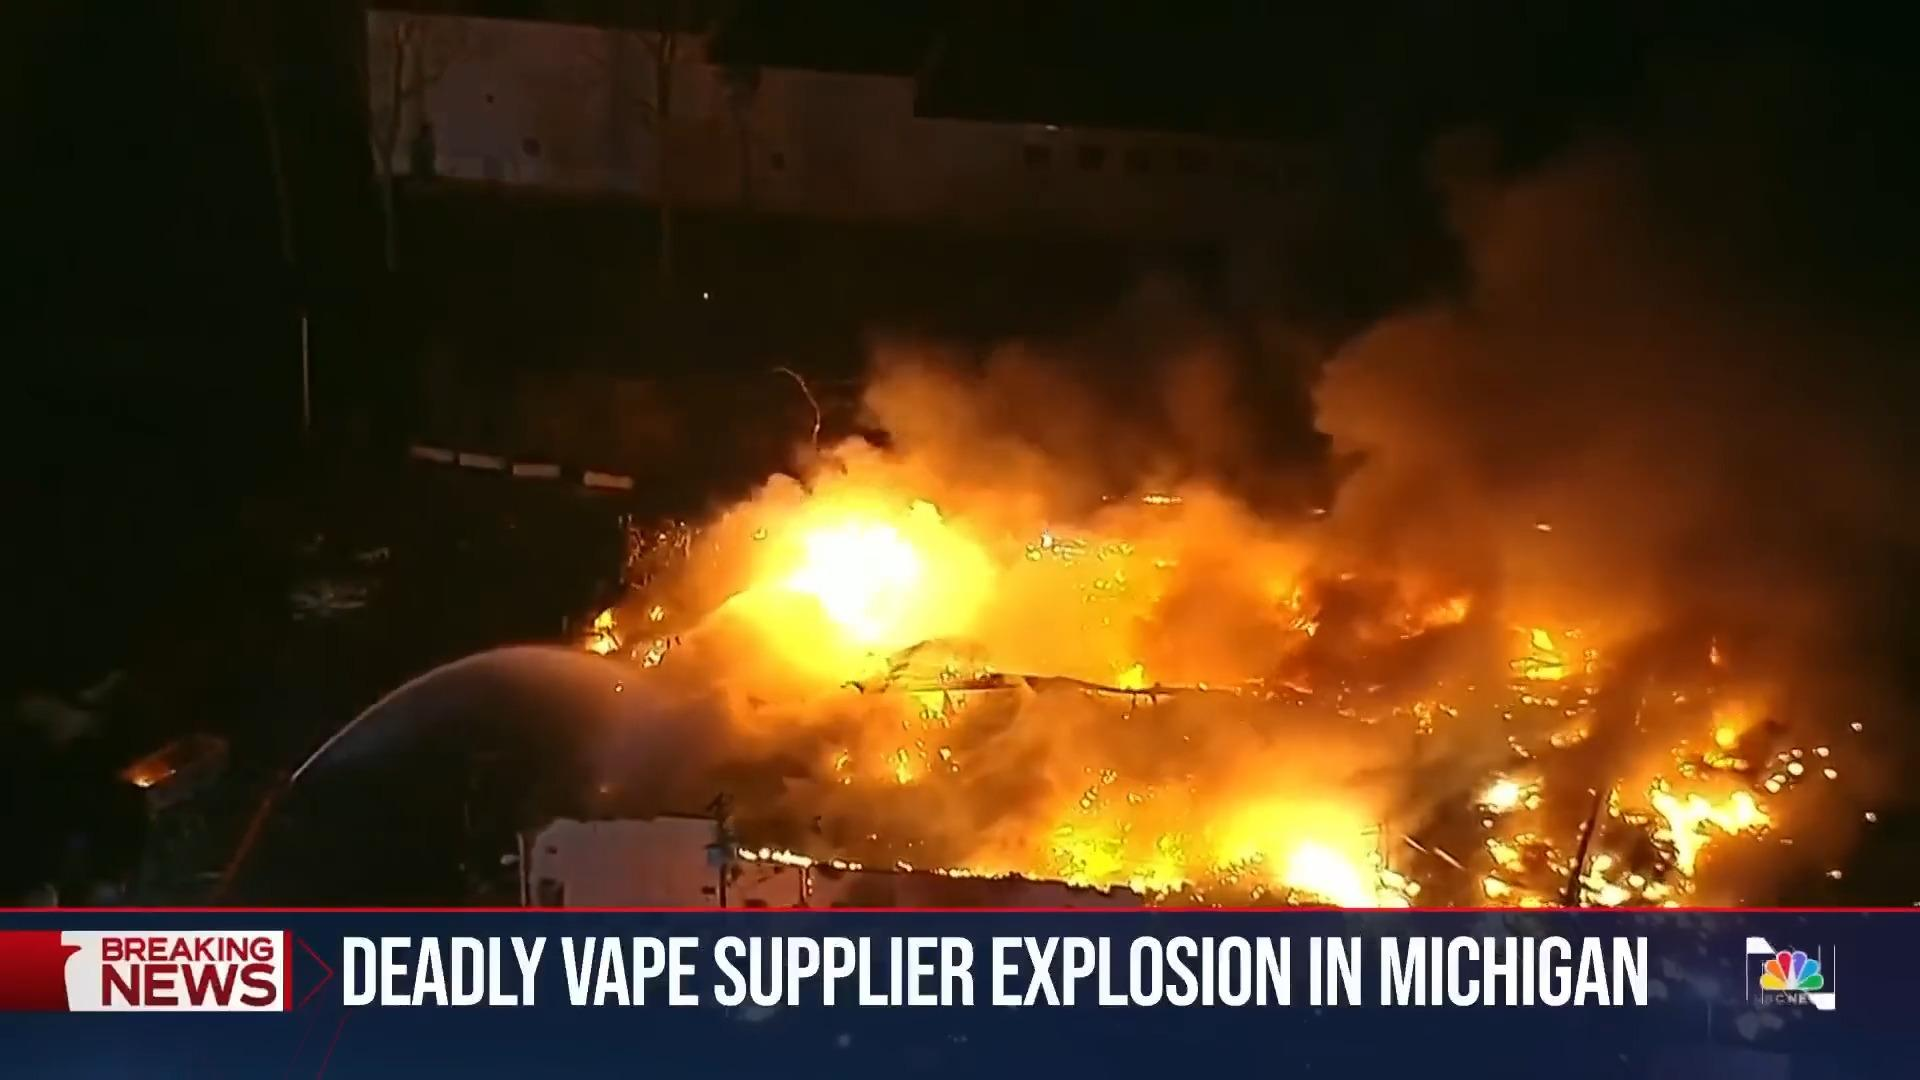fire: (1429, 558, 1829, 909), (822, 702, 1411, 911), (678, 476, 1043, 695), (1050, 502, 1327, 709)
